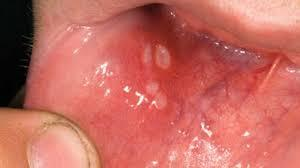Caries: (136, 39, 180, 120)
